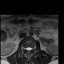CCS_normal: (27, 46, 29, 54)
LFS_normal: (32, 45, 34, 51)
LLS_normal: (29, 45, 31, 53)
RFS_normal: (24, 45, 26, 51)
RLS_normal: (26, 45, 27, 52)
